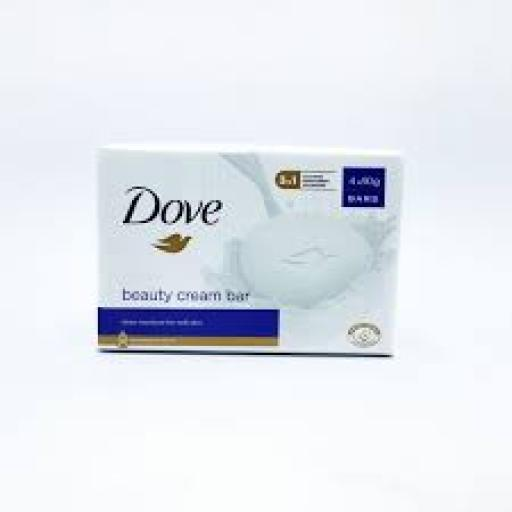Dove`1: (83, 139, 411, 368)
